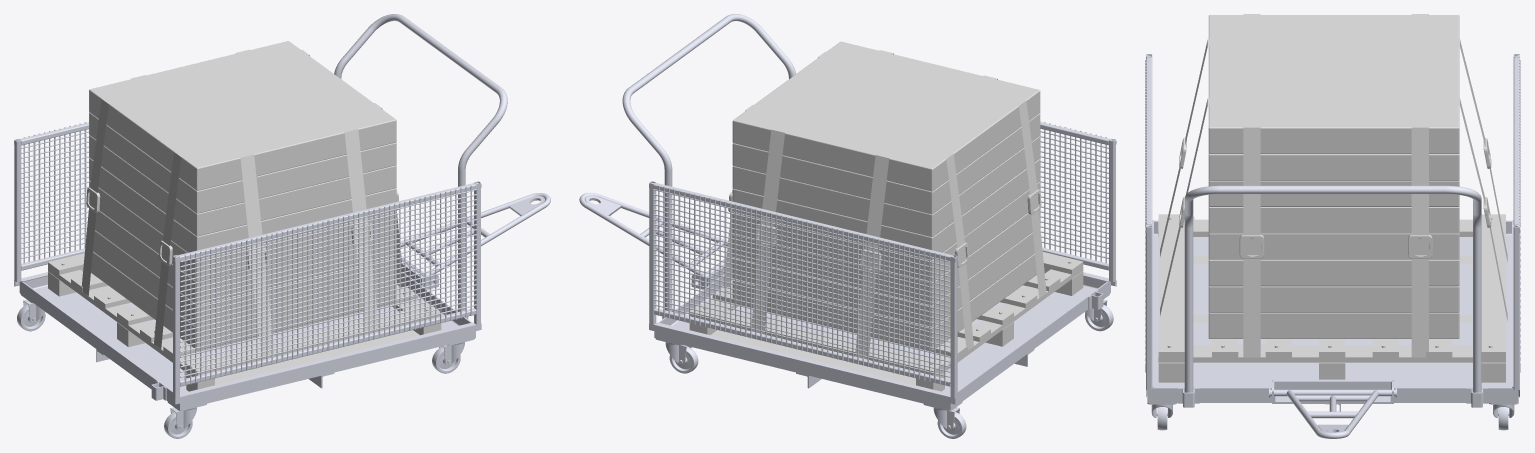
Rendered from trolley_animated.glb.
The picture shows the model from 3 angles, left to right: view 1: azimuth 30°, elevation 25°; view 2: azimuth 150°, elevation 25°; view 3: azimuth 270°, elevation 25°; orthographic projection. The views are drawn at different scales.
Visible parts, largest first — view 1: Material004, L10.001; view 2: Material004, L10.001; view 3: Material004, L10.001.
Boxes of the visible parts, bbox=[...] form: Material004: bbox=[48, 41, 441, 391]; L10.001: bbox=[14, 14, 550, 438]; Material004: bbox=[689, 41, 1083, 391]; L10.001: bbox=[579, 14, 1116, 438]; Material004: bbox=[1158, 14, 1507, 382]; L10.001: bbox=[1145, 54, 1520, 438].
Bounding box in the file's own units: 0.4818 × 0.2486 × 0.2953.
2 materials, 1 textured.
